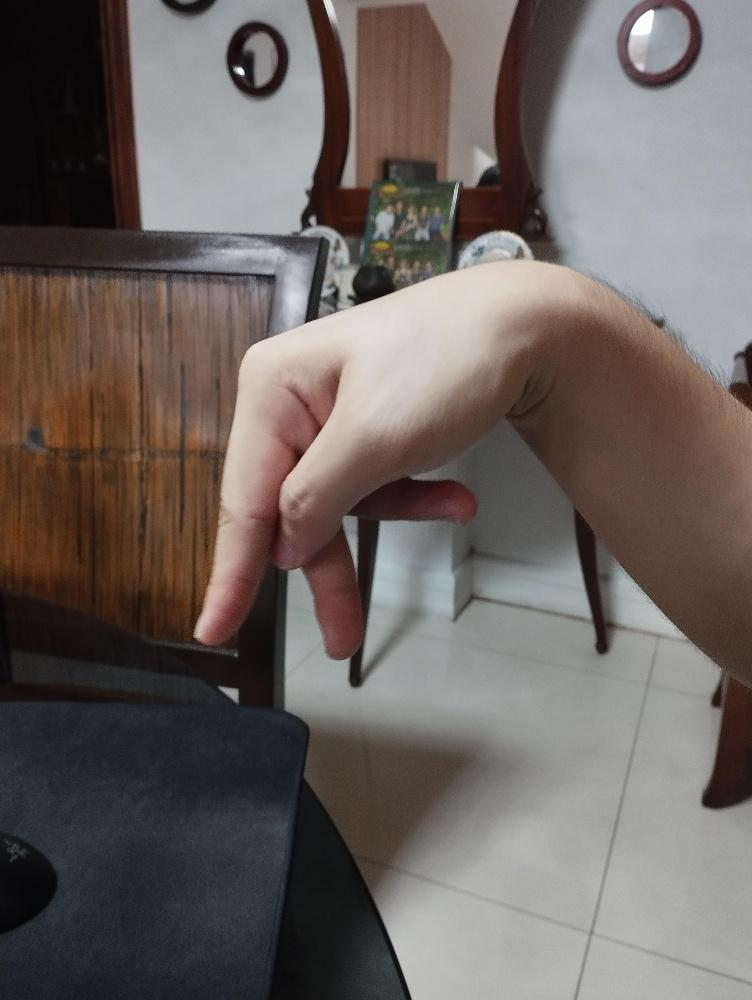p: (189, 254, 551, 664)
